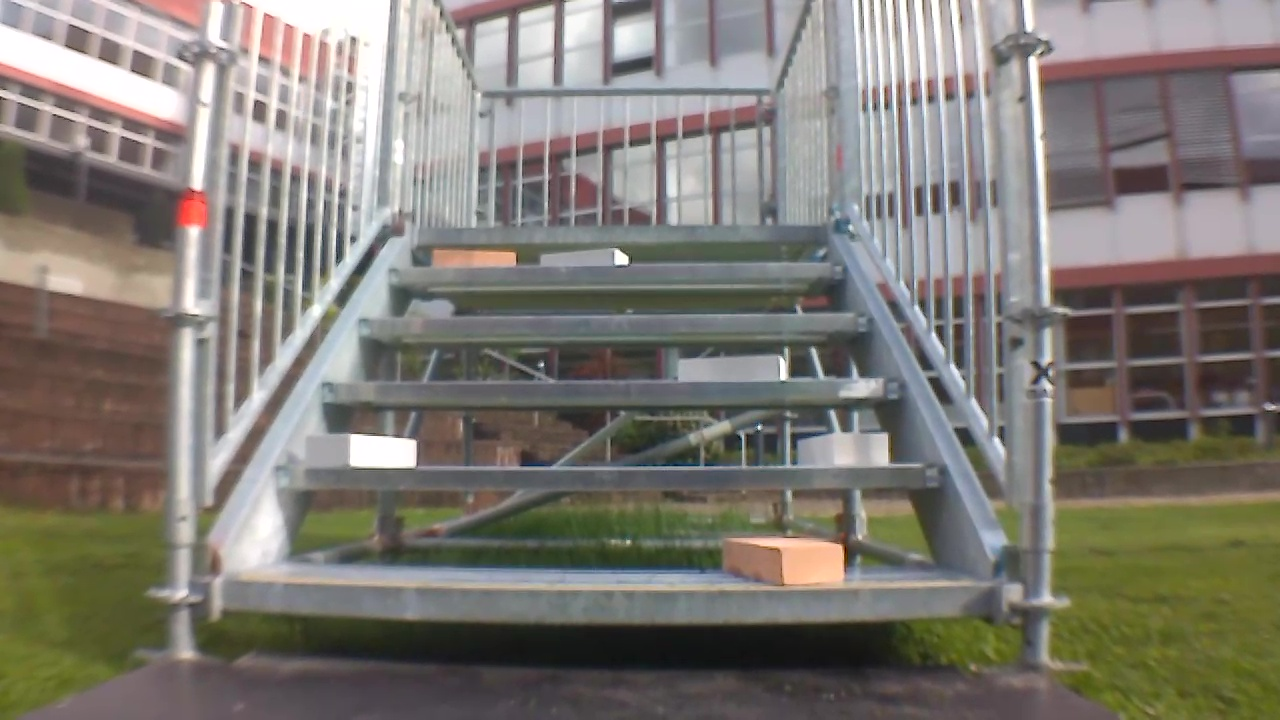brick: (724, 537, 844, 585), (306, 434, 417, 468), (799, 432, 886, 465), (678, 354, 784, 380), (540, 248, 626, 266), (433, 249, 513, 266)
edge: (221, 581, 997, 624), (275, 465, 942, 490), (320, 378, 906, 404), (357, 314, 869, 336), (388, 262, 848, 283), (412, 223, 830, 242)
stairs: (151, 2, 1068, 673)
steps: (210, 218, 1009, 635)
